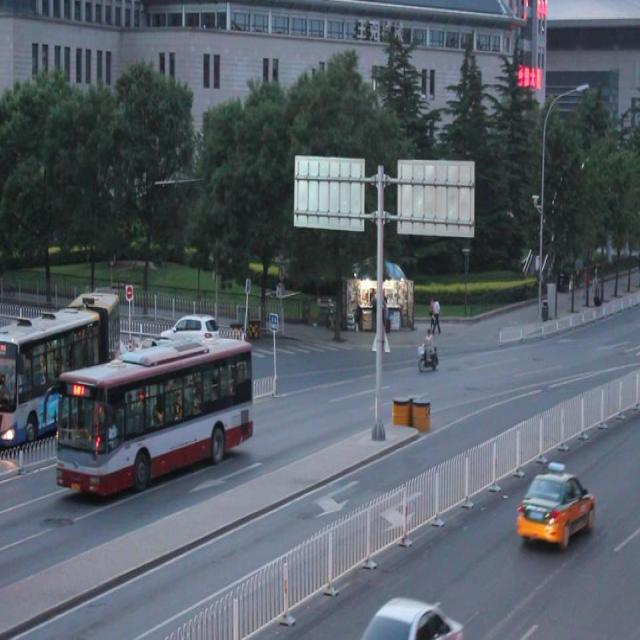car: (516, 461, 592, 548), (359, 586, 462, 640), (162, 308, 221, 358), (122, 330, 168, 385)
van: (59, 338, 252, 504), (1, 288, 120, 448)
